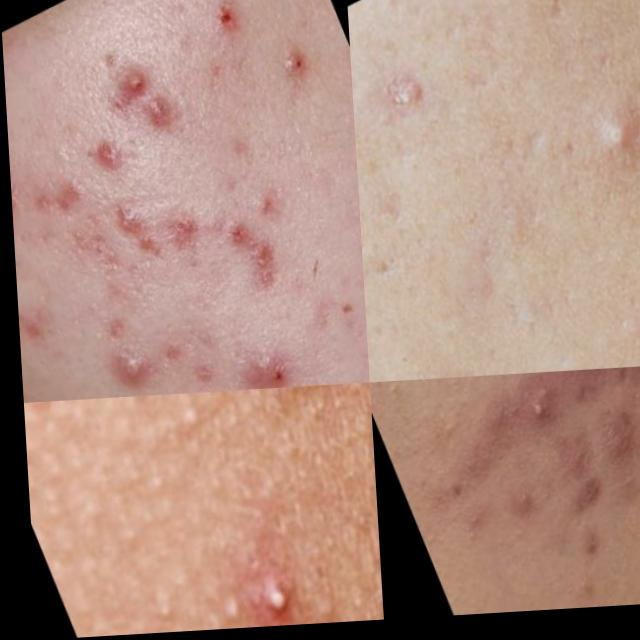8: (571, 392, 640, 481), (133, 82, 189, 159), (231, 339, 306, 393), (7, 150, 35, 237)
9: (234, 556, 303, 630), (111, 338, 171, 399), (590, 114, 640, 182), (281, 387, 360, 416), (516, 396, 558, 441), (204, 0, 252, 29)
blackheads: (215, 208, 288, 320), (159, 213, 223, 280), (73, 221, 122, 296), (119, 204, 163, 282)
